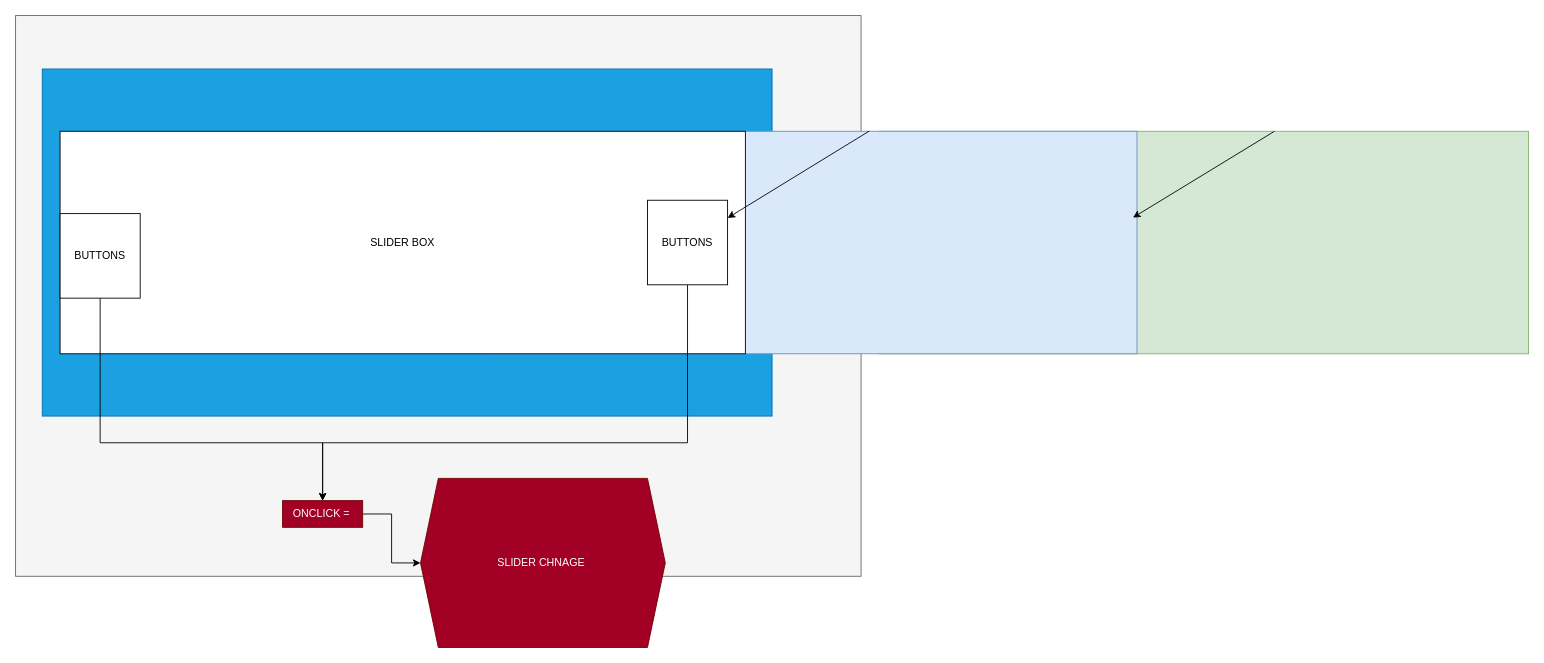
Some shapes in this 1544 by 663 pixel diagram are drawn without their labels. Here are the shapes that lost their labels. From the top down, the box of each, then its label:
(486, 130, 1137, 354): SECOUND SLIDER
(878, 130, 1529, 354): THIRD SLIDER
